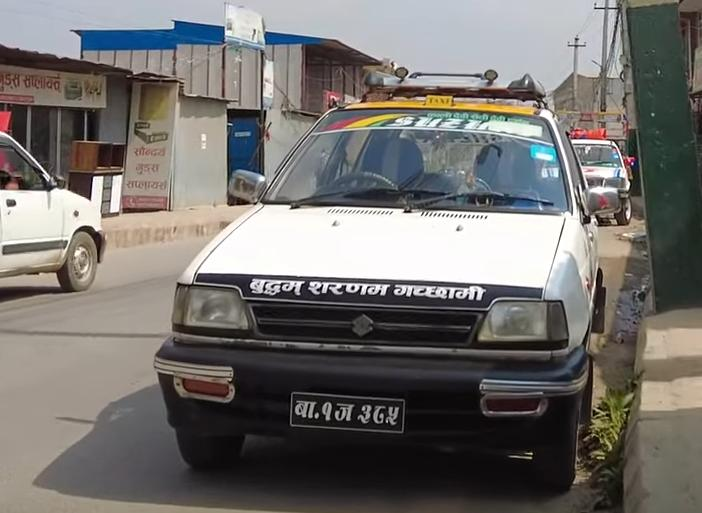taxi: (138, 88, 605, 485), (0, 120, 112, 300)
